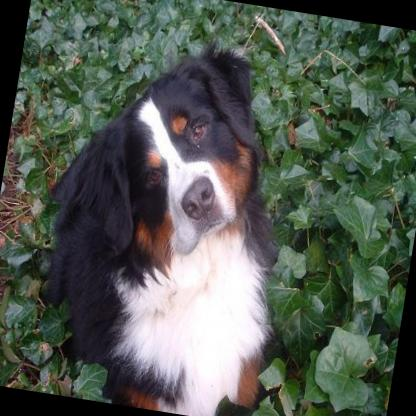Bernese_mountain_dog: (14, 29, 311, 416)
